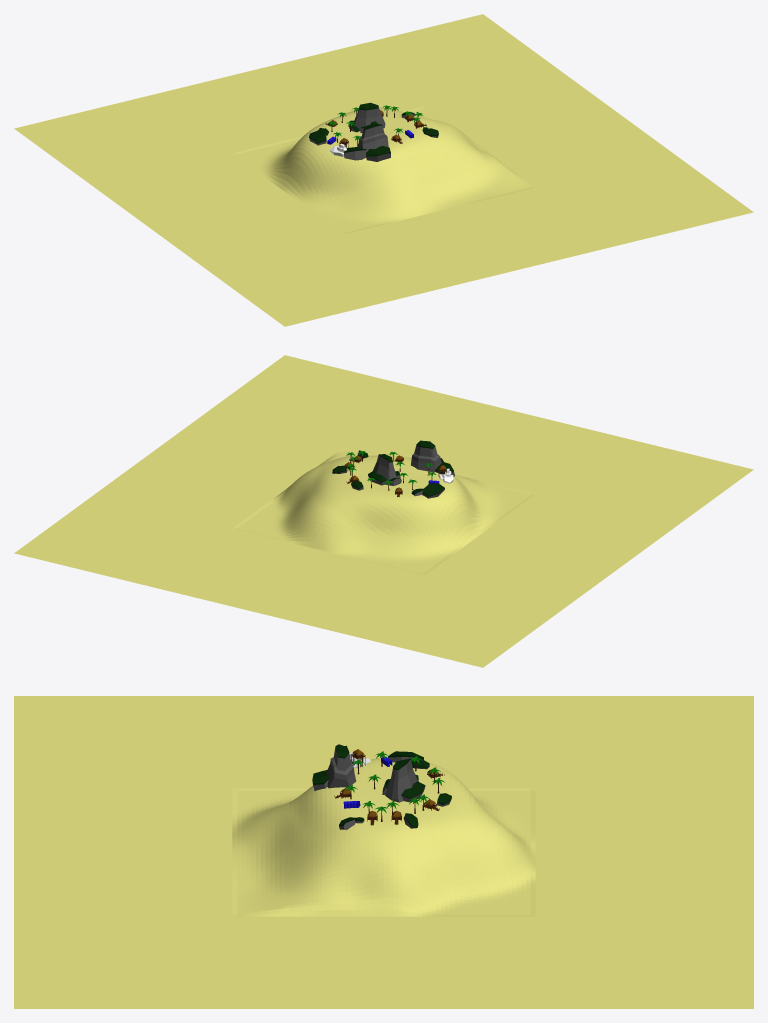
File: Gamejam2025Map.fbx
3 renders of one model, top to bottom at view 1: azimuth 30°, elevation 25°; view 2: azimuth 150°, elevation 25°; view 3: azimuth 270°, elevation 25°, orthographic. The views are drawn at different scales.
Parts seen in each view (by area): view 1: Plane, Rock1.010; view 2: Plane, Rock1.010; view 3: Plane, Rock1.010.
Part boxes in pixels (x1,y1,x2,y2): Plane: (14,14,753,326); Rock1.010: (309,102,438,161); Plane: (14,355,753,667); Rock1.010: (332,440,454,498); Plane: (14,696,753,1008); Rock1.010: (312,744,451,830).
Bounding box in the file's own units: 48824 × 6387 × 48824.
